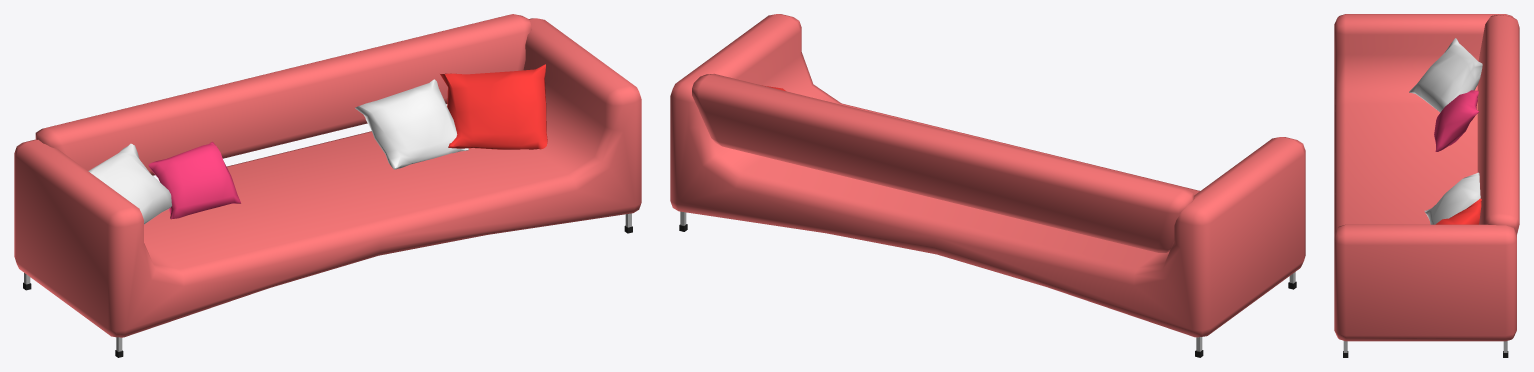
File: sofa_002.glb
3 renders of one model, left to right at view 1: azimuth 30°, elevation 25°; view 2: azimuth 150°, elevation 25°; view 3: azimuth 270°, elevation 25°, orthographic. The views are drawn at different scales.
Visible parts, largest first — view 1: sofa_002; view 2: sofa_002; view 3: sofa_002.
Part boxes in pixels (box(x1,y1,x2,y2)): sofa_002: box(14, 14, 641, 357); sofa_002: box(670, 14, 1305, 357); sofa_002: box(1334, 14, 1519, 357).
Bounding box in the file's own units: 2.97 × 0.8273 × 1.03.
Materials: 1 (1 with a texture image).
